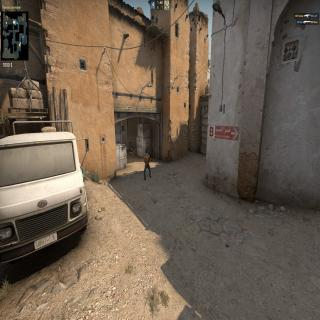T-Head: (145, 150, 147, 155)
